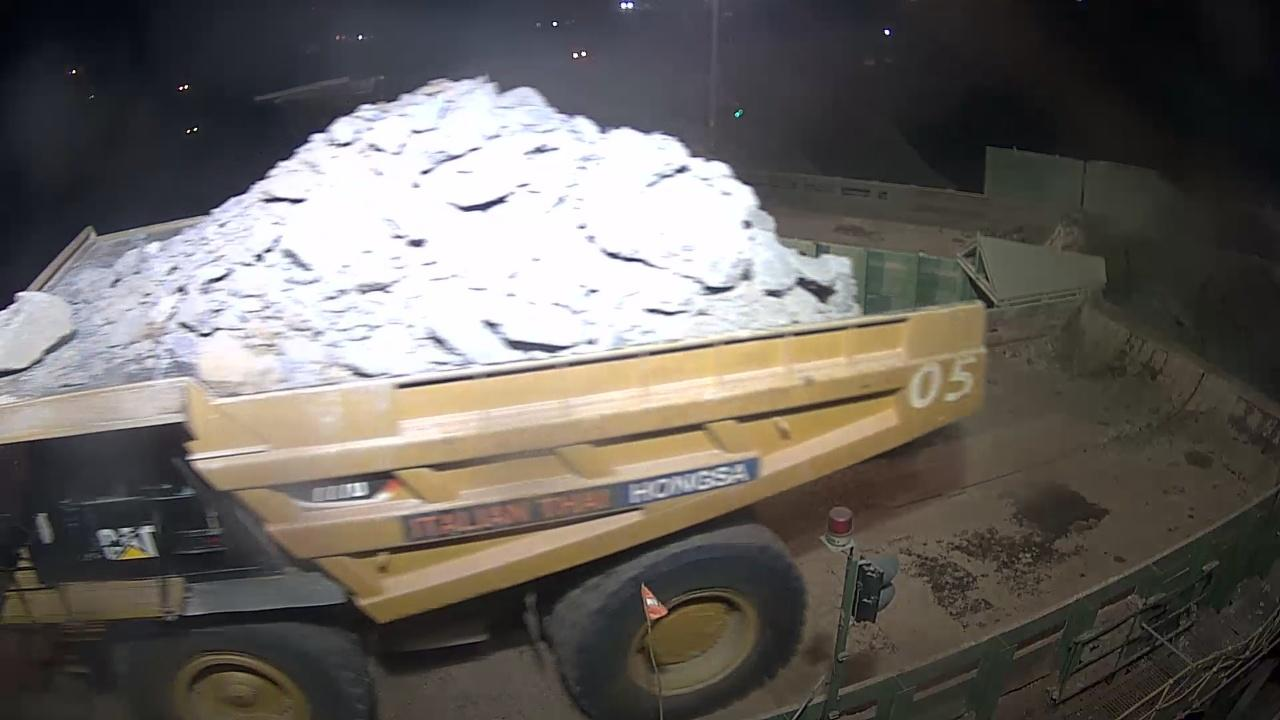company: (396, 457, 780, 547)
full_load: (173, 74, 837, 359)
mining_truck: (0, 71, 1012, 720)
tail_number: (910, 352, 977, 413)
truck_size: (287, 472, 406, 513)
